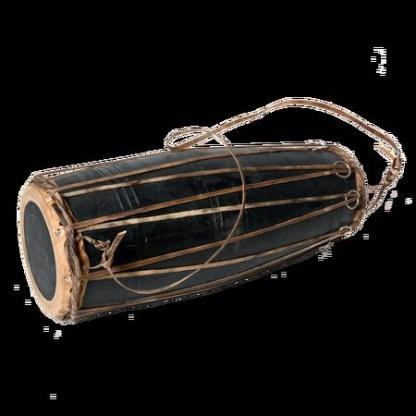Mridangam: (9, 100, 377, 341)
